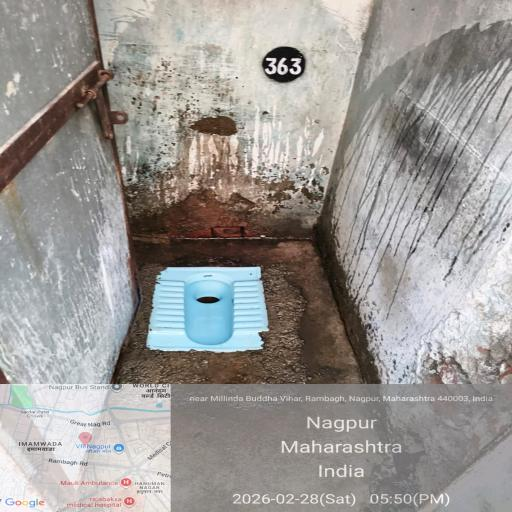clean_indian: (152, 268, 278, 354)
dirty_floor: (103, 41, 355, 242), (359, 36, 512, 339), (2, 72, 142, 400), (135, 243, 408, 399)
